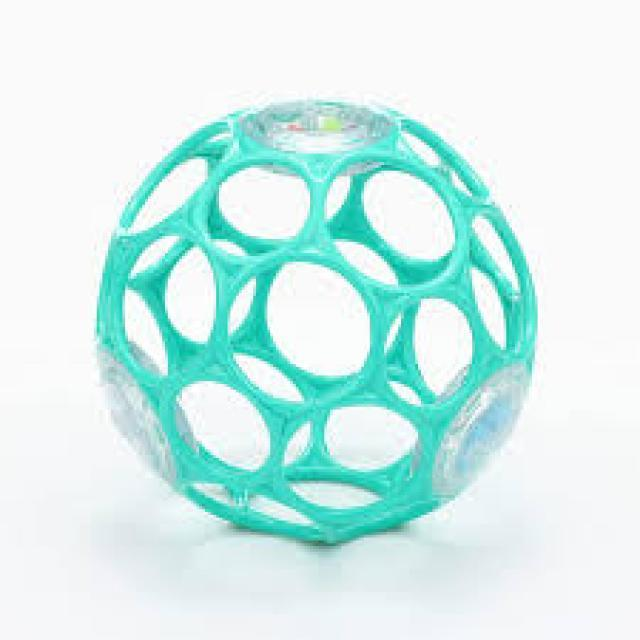hard-toy: (99, 101, 537, 544)
